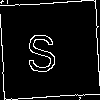S: (24, 25, 58, 73)
